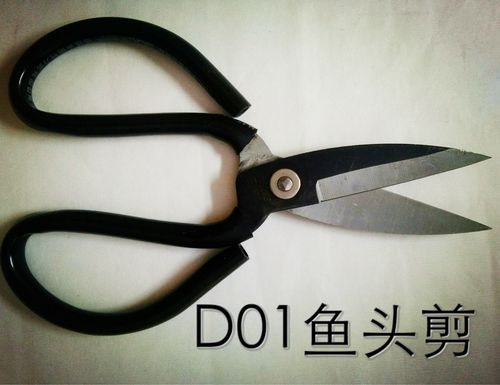scissor: (3, 12, 492, 333)
